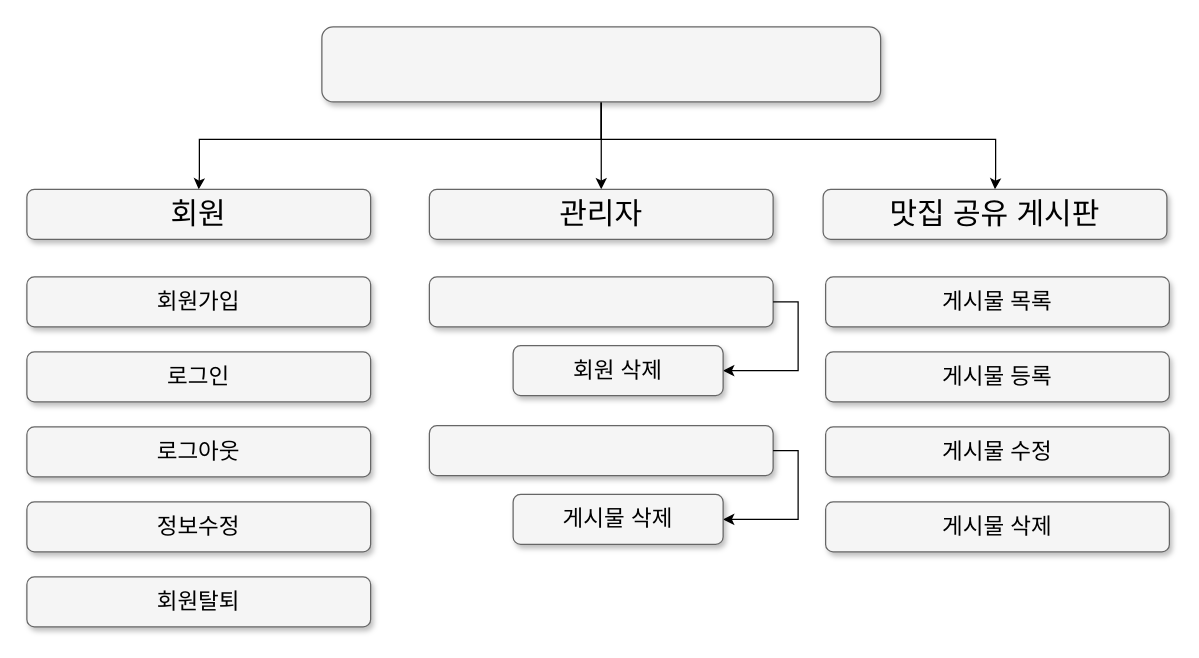
Some shapes in this 1199 by 658 pixel diagram are drawn without their labels. Here are the shapes that lost their labels. From the top down, the centre of each, then its label:
At point 602,66: "Home".
At point 602,303: "회원관리".
At point 602,451: "게시판 관리".
